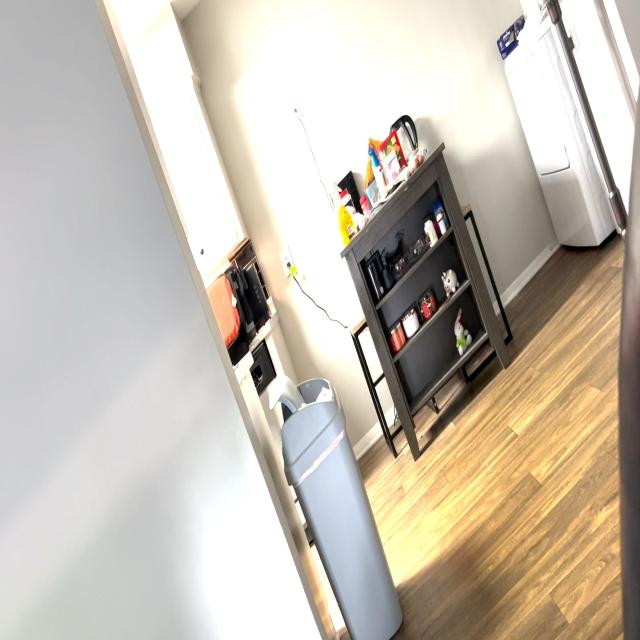drone: (377, 225, 415, 281)
